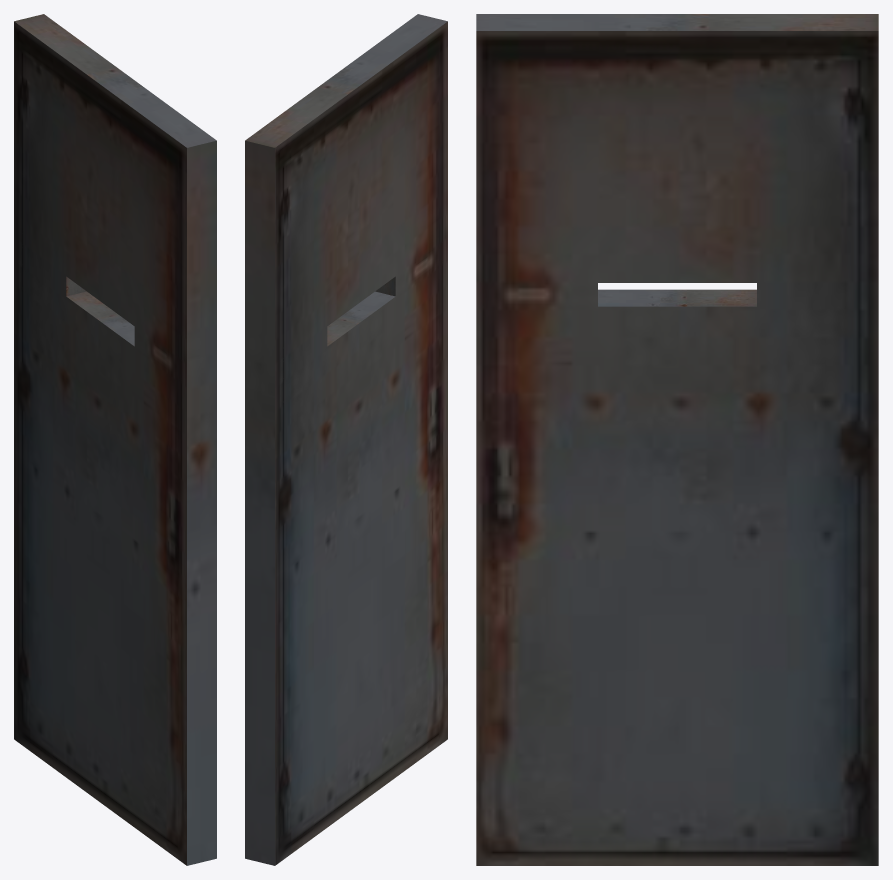
The model's file is soviet_hallway_door.FBX.
The picture shows the model from 3 angles, left to right: view 1: azimuth 30°, elevation 25°; view 2: azimuth 150°, elevation 25°; view 3: azimuth 270°, elevation 25°; orthographic projection. The views are drawn at different scales.
Parts seen in each view (by area): view 1: soviet_hallway_door; view 2: soviet_hallway_door; view 3: soviet_hallway_door.
Boxes of the visible parts, x1,y1,x2,y2 form: soviet_hallway_door: [14, 14, 216, 865]; soviet_hallway_door: [245, 14, 447, 865]; soviet_hallway_door: [476, 14, 878, 865].
Bounding box in the file's own units: 7.51 × 172 × 75.05.
